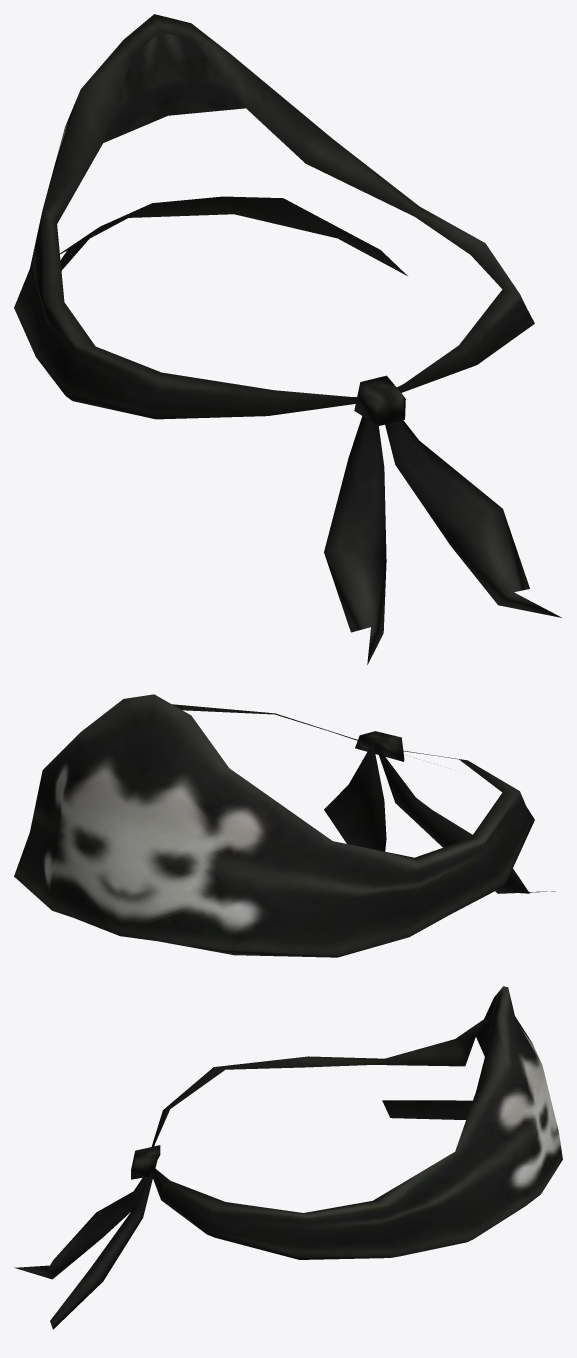
Rendered from pirateBandanaR.glb.
3 renders of one model, top to bottom at view 1: azimuth 30°, elevation 25°; view 2: azimuth 150°, elevation 25°; view 3: azimuth 270°, elevation 25°, orthographic. The views are drawn at different scales.
Parts seen in each view (by area): view 1: pirateBandanaR; view 2: pirateBandanaR; view 3: pirateBandanaR.
Boxes of the visible parts, <box> form: pirateBandanaR: <box>14,14,561,664</box>; pirateBandanaR: <box>14,694,555,957</box>; pirateBandanaR: <box>14,986,562,1329</box>.
Size of the model in its own units: 0.3344 by 0.2908 by 0.4543.
1 material, 1 textured.
